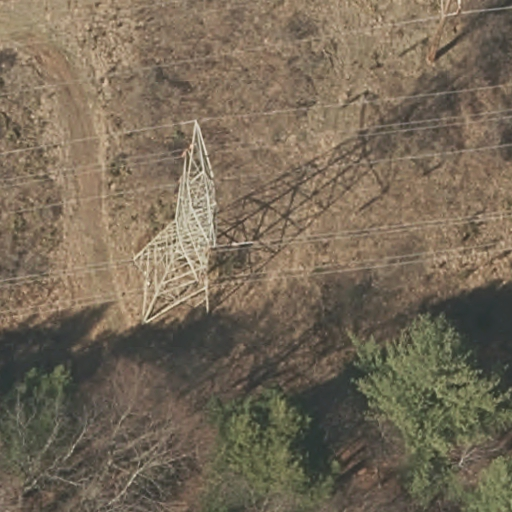TT: (136, 117, 221, 327)
